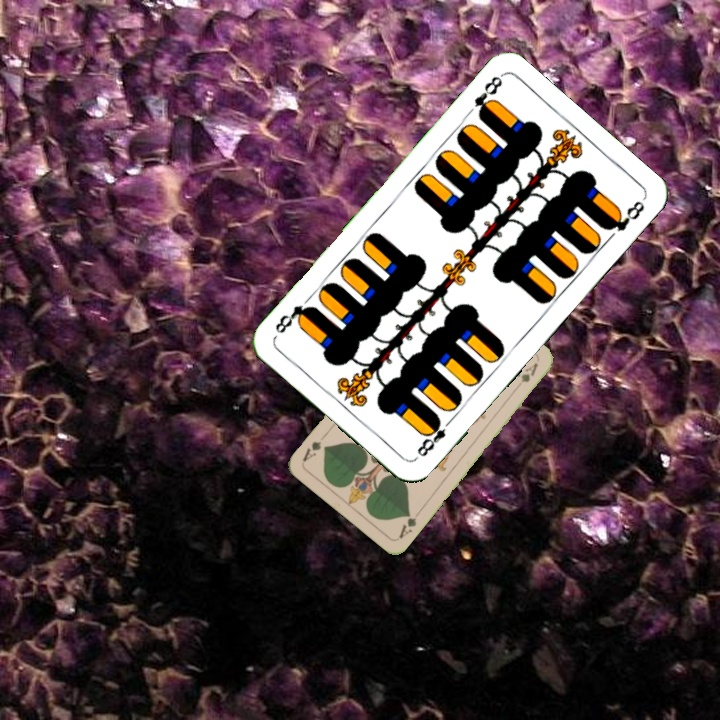E8: (413, 413, 456, 460), (470, 71, 505, 122)
GA: (395, 509, 419, 541)
